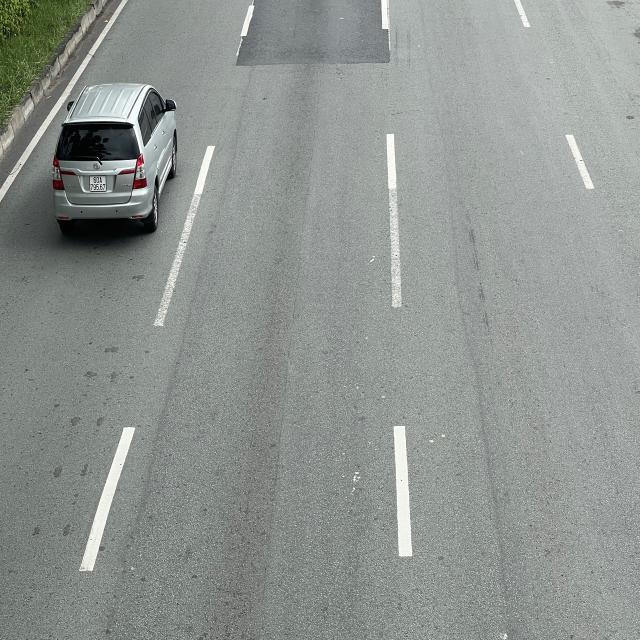car: (51, 82, 178, 228)
